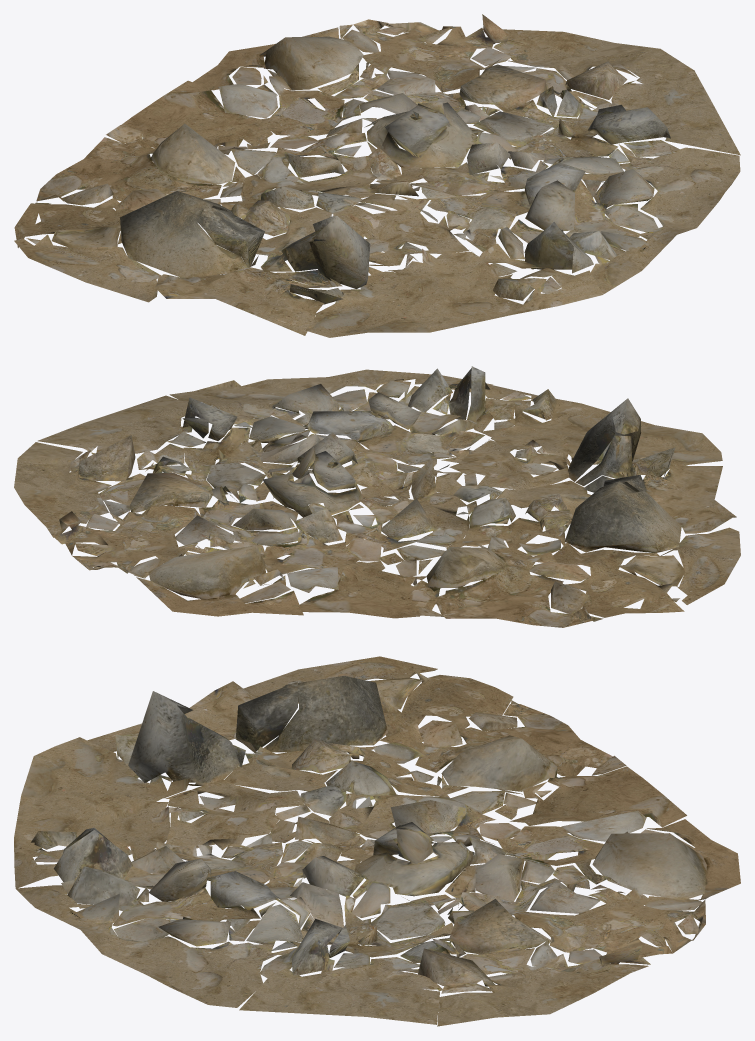
File: sand_rocks_small_01_LOD2.fbx
The picture shows the model from 3 angles, top to bottom: view 1: azimuth 30°, elevation 25°; view 2: azimuth 150°, elevation 25°; view 3: azimuth 270°, elevation 25°; orthographic projection. The views are drawn at different scales.
Parts seen in each view (by area): view 1: sand_rocks_small_01.001; view 2: sand_rocks_small_01.001; view 3: sand_rocks_small_01.001.
Part boxes in pixels (left/top/right/bottom): sand_rocks_small_01.001: left=14, top=14, right=740, bottom=337; sand_rocks_small_01.001: left=14, top=366, right=740, bottom=627; sand_rocks_small_01.001: left=14, top=656, right=740, bottom=1026.
Size of the model in its own units: 4.64 by 3.86 by 0.5281.
